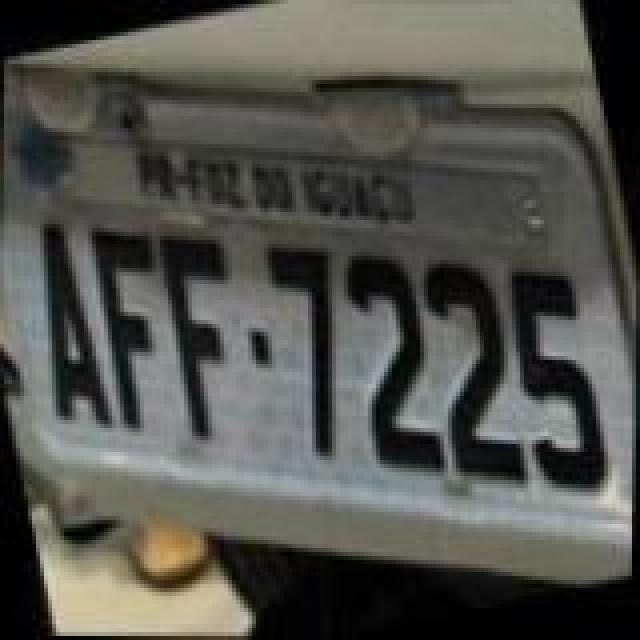2: (410, 250, 542, 502), (334, 244, 462, 492)
5: (488, 254, 624, 506)
7: (258, 232, 378, 468)
A: (16, 216, 124, 440)
F: (146, 218, 266, 446), (76, 212, 192, 436)
